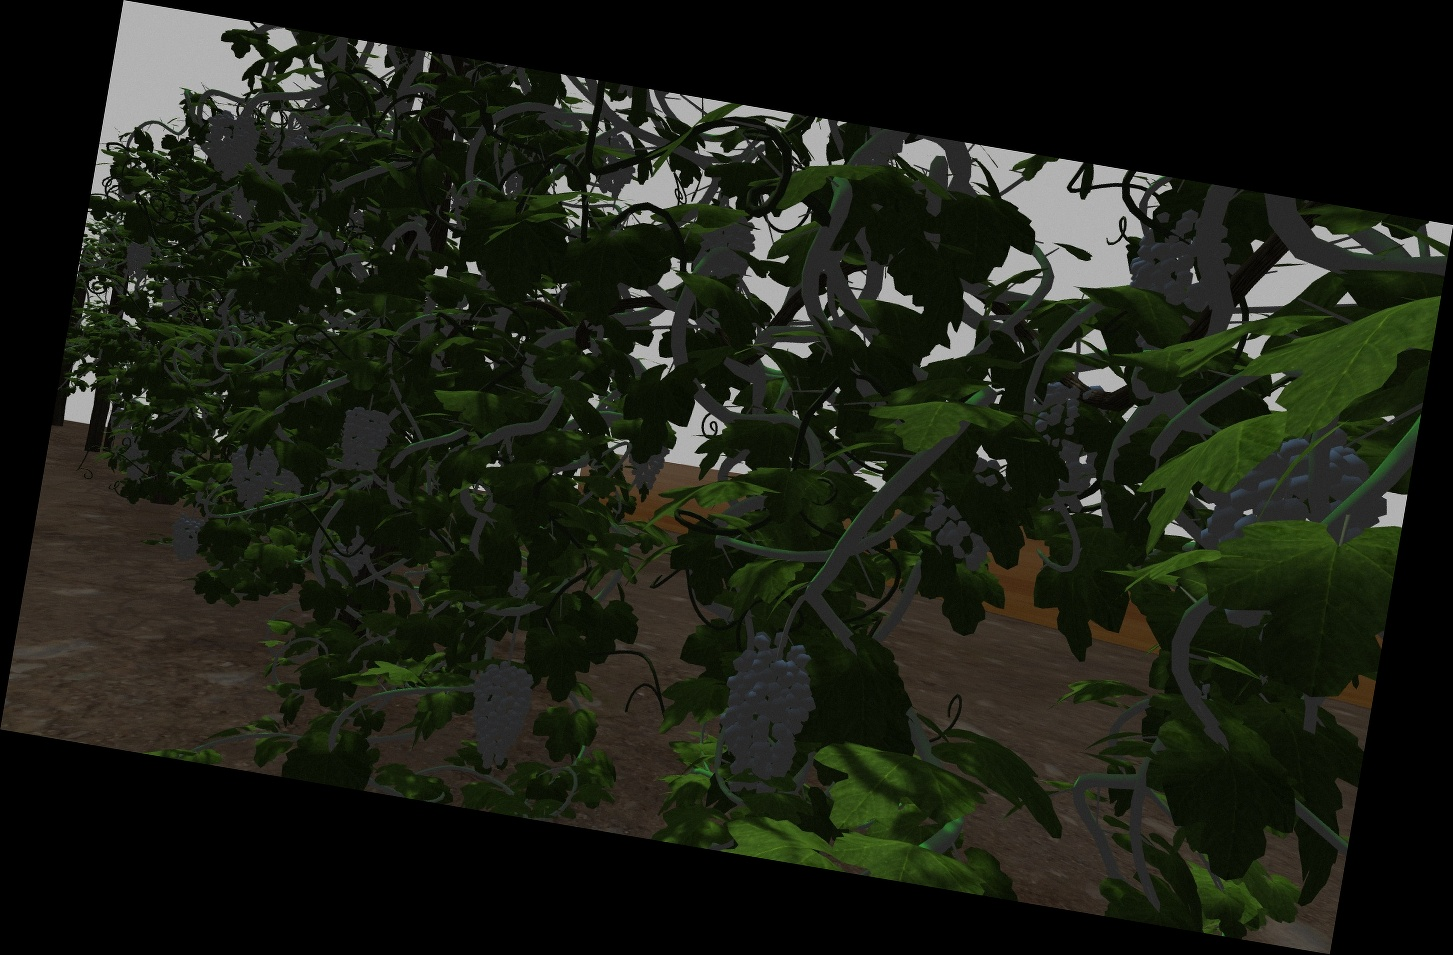grape: (1216, 441, 1387, 559), (724, 631, 814, 781), (465, 662, 537, 772), (1134, 210, 1206, 306), (200, 111, 261, 182), (227, 442, 280, 509), (340, 407, 388, 471), (1037, 381, 1080, 448), (708, 218, 754, 280), (169, 518, 203, 562), (124, 239, 154, 275)
